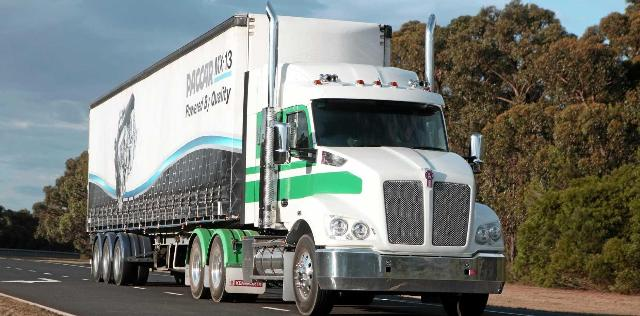truck: (62, 15, 544, 297)
